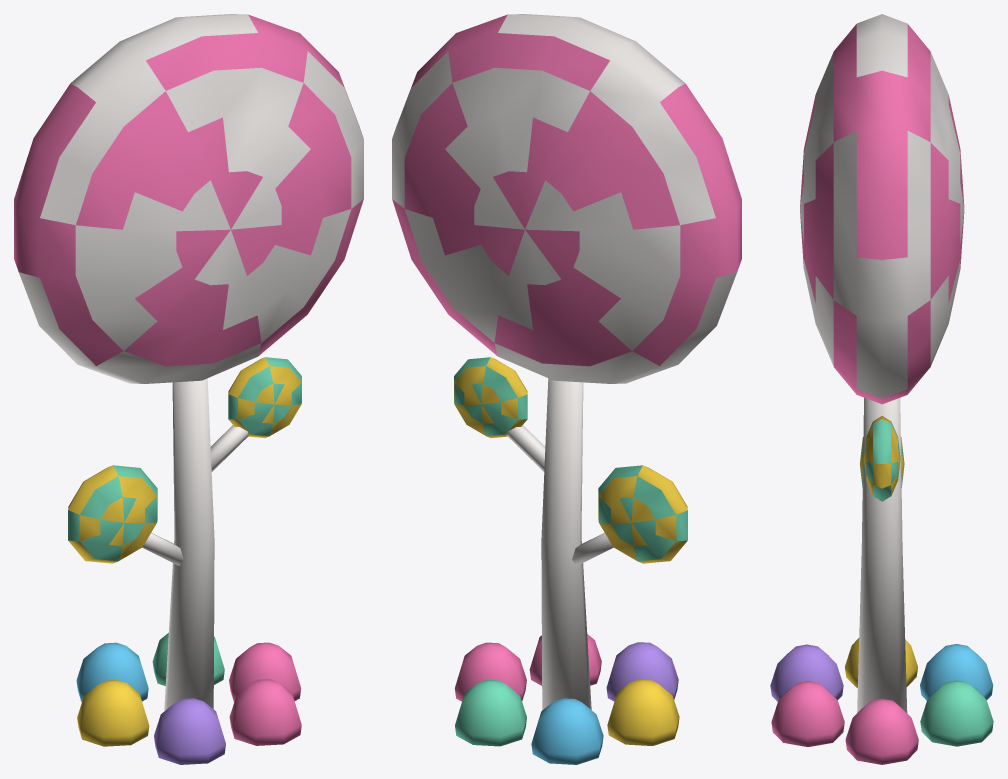
The model's file is candy_lollytree.glb.
3 views of the same model, side by side, from view 1: azimuth 30°, elevation 25°; view 2: azimuth 150°, elevation 25°; view 3: azimuth 270°, elevation 25° (orthographic).
Parts seen in each view (by area): view 1: C_LollyTree__C_white_5, C_LollyTree__C_pink_2, C_LollyTree__C_yel_2, C_LollyTree__C_mint_2, C_LollyTree__C_lilac_2, C_LollyTree__C_sky_2; view 2: C_LollyTree__C_white_5, C_LollyTree__C_pink_2, C_LollyTree__C_yel_2, C_LollyTree__C_mint_2, C_LollyTree__C_sky_2, C_LollyTree__C_lilac_2; view 3: C_LollyTree__C_white_5, C_LollyTree__C_pink_2, C_LollyTree__C_mint_2, C_LollyTree__C_lilac_2, C_LollyTree__C_sky_2, C_LollyTree__C_yel_2.
Boxes of the visible parts, box(x1,y1,x2,y2) form: C_LollyTree__C_white_5: box(18, 14, 363, 710); C_LollyTree__C_pink_2: box(14, 14, 363, 745); C_LollyTree__C_yel_2: box(68, 357, 301, 746); C_LollyTree__C_mint_2: box(68, 357, 301, 685); C_LollyTree__C_lilac_2: box(154, 698, 225, 764); C_LollyTree__C_sky_2: box(76, 642, 148, 702); C_LollyTree__C_white_5: box(392, 14, 737, 709); C_LollyTree__C_pink_2: box(392, 14, 741, 701); C_LollyTree__C_yel_2: box(454, 357, 687, 745); C_LollyTree__C_mint_2: box(454, 357, 687, 746); C_LollyTree__C_sky_2: box(531, 698, 603, 764); C_LollyTree__C_lilac_2: box(606, 642, 678, 701); C_LollyTree__C_white_5: box(800, 14, 964, 712); C_LollyTree__C_pink_2: box(771, 24, 964, 764); C_LollyTree__C_mint_2: box(860, 419, 993, 746); C_LollyTree__C_lilac_2: box(770, 644, 843, 701); C_LollyTree__C_sky_2: box(920, 644, 993, 700); C_LollyTree__C_yel_2: box(845, 416, 917, 687).
Bounding box in the file's own units: 2.46 × 4.81 × 1.42.
